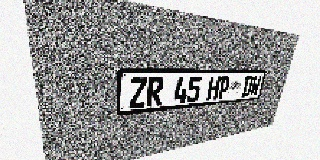4: (173, 77, 189, 104)
5: (186, 77, 202, 103)
D: (241, 76, 254, 97)
H: (206, 76, 221, 101)
P: (217, 76, 231, 99)
R: (146, 77, 164, 107)
W: (249, 76, 262, 96)
Z: (129, 77, 148, 108)
